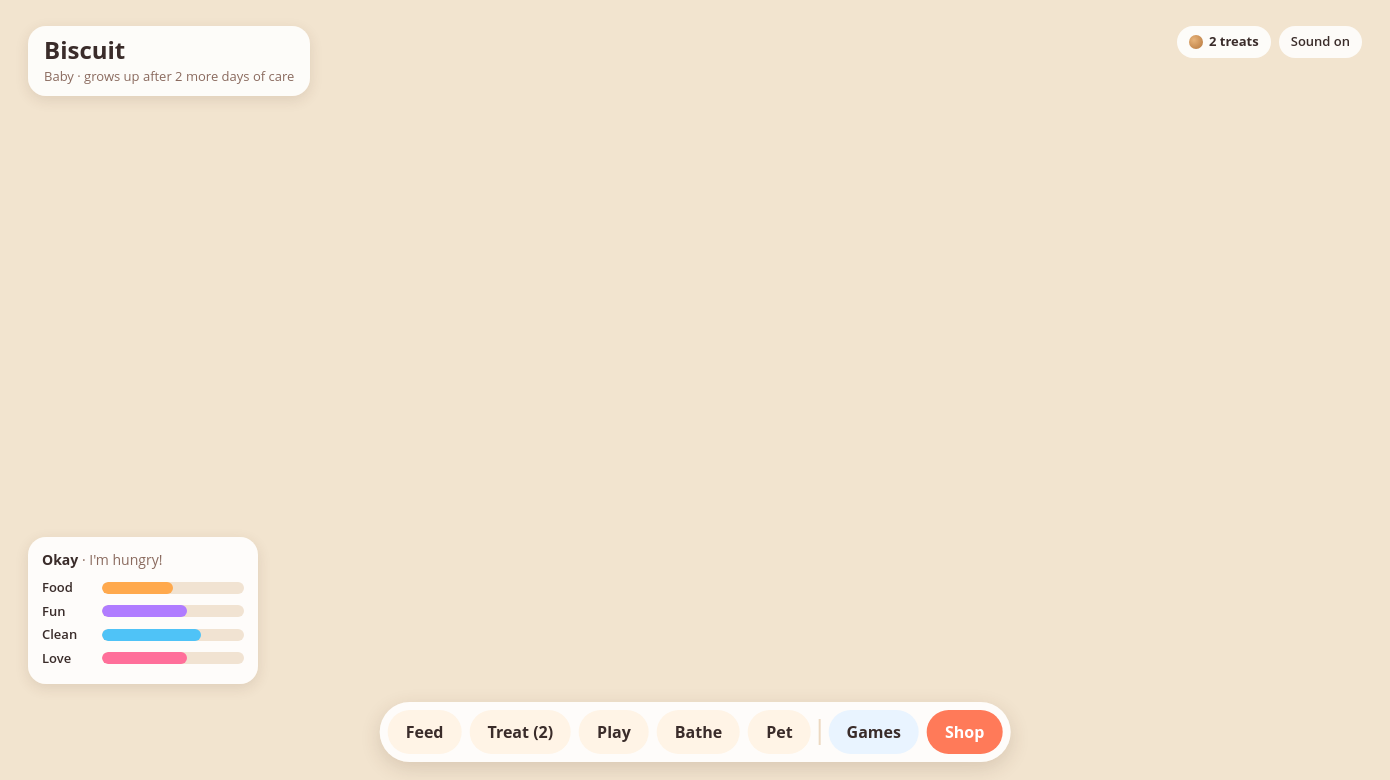
Test case: the first care of the day pays daily coins to a signed-in player
Later steps or results of the test are not shown.
Click the button "Feed": click(425, 732) [388,710,462,754]
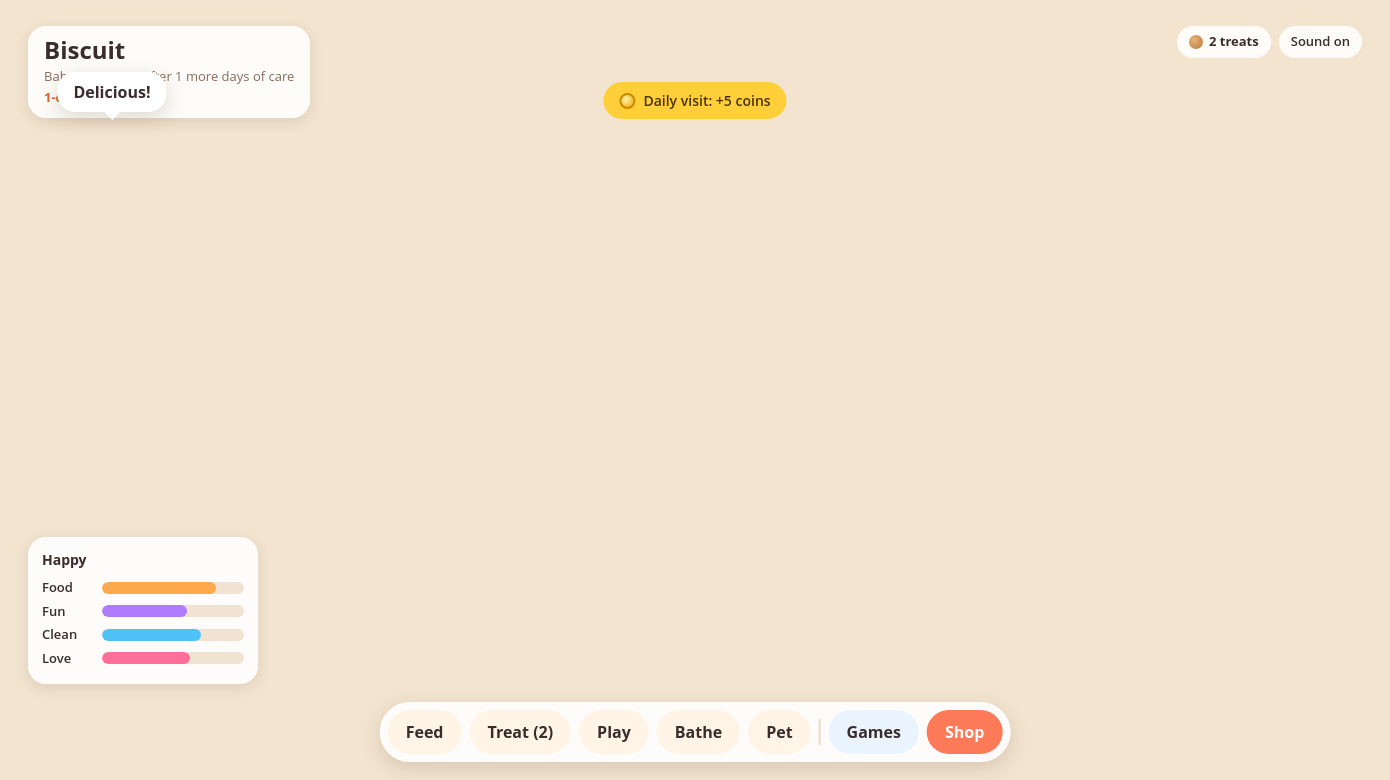
expect the text "Daily visit: +5 coins" is shown: met, box [603,82,787,119]
